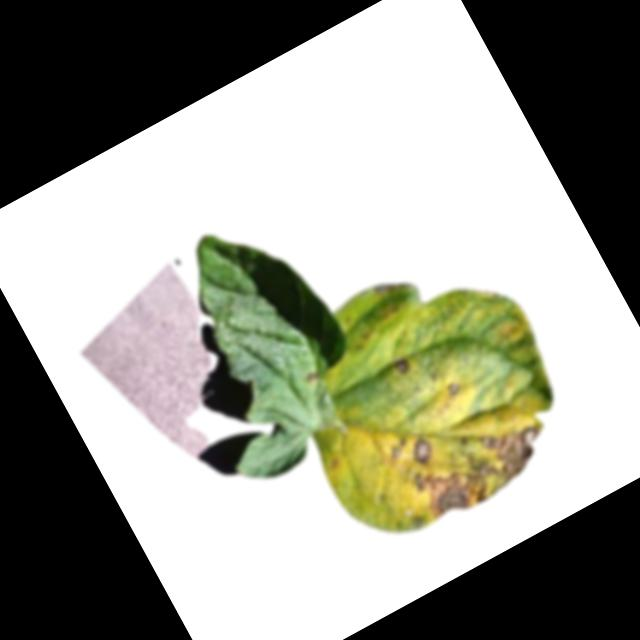Early_blight: (405, 409, 560, 530), (384, 435, 415, 463), (411, 443, 437, 470), (392, 358, 411, 378), (303, 369, 321, 386), (448, 382, 463, 399)
